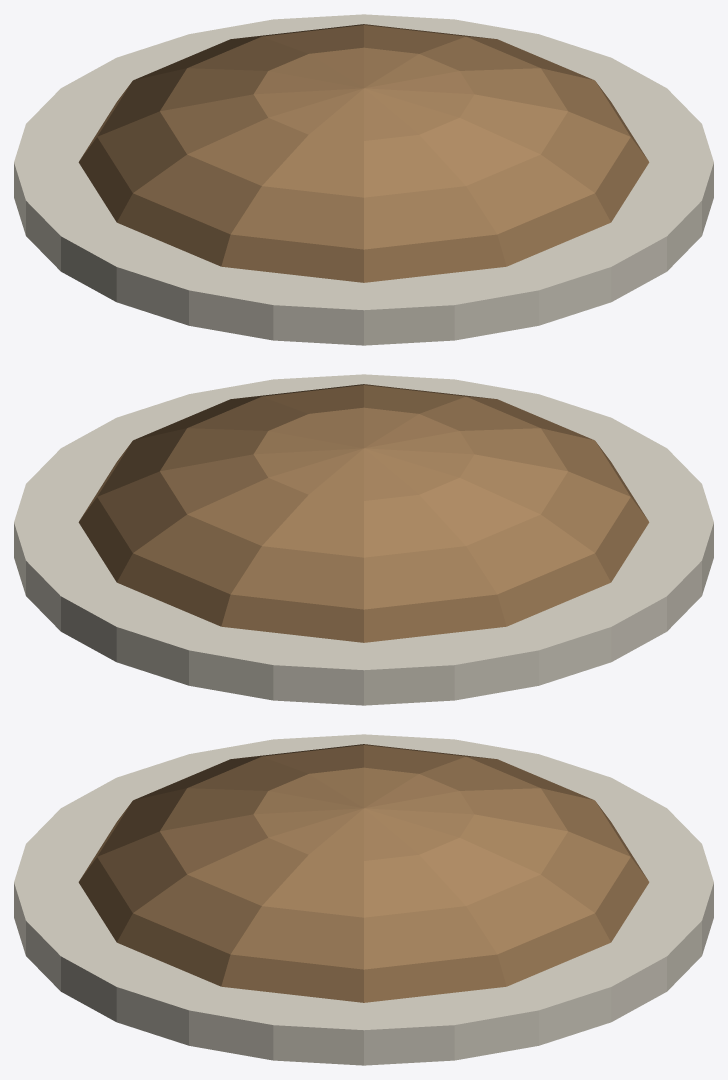
File: rb_mound.glb
The picture shows the model from 3 angles, top to bottom: view 1: azimuth 30°, elevation 25°; view 2: azimuth 150°, elevation 25°; view 3: azimuth 270°, elevation 25°; orthographic projection.
Parts seen in each view (by area): view 1: rb_mound_lod0; view 2: rb_mound_lod0; view 3: rb_mound_lod0.
Boxes of the visible parts, bbox=[...] form: rb_mound_lod0: bbox=[14, 14, 713, 345]; rb_mound_lod0: bbox=[14, 374, 713, 705]; rb_mound_lod0: bbox=[14, 734, 713, 1065].
Size of what is drawn, in the model's own units: 20.6 by 3.55 by 20.6.
